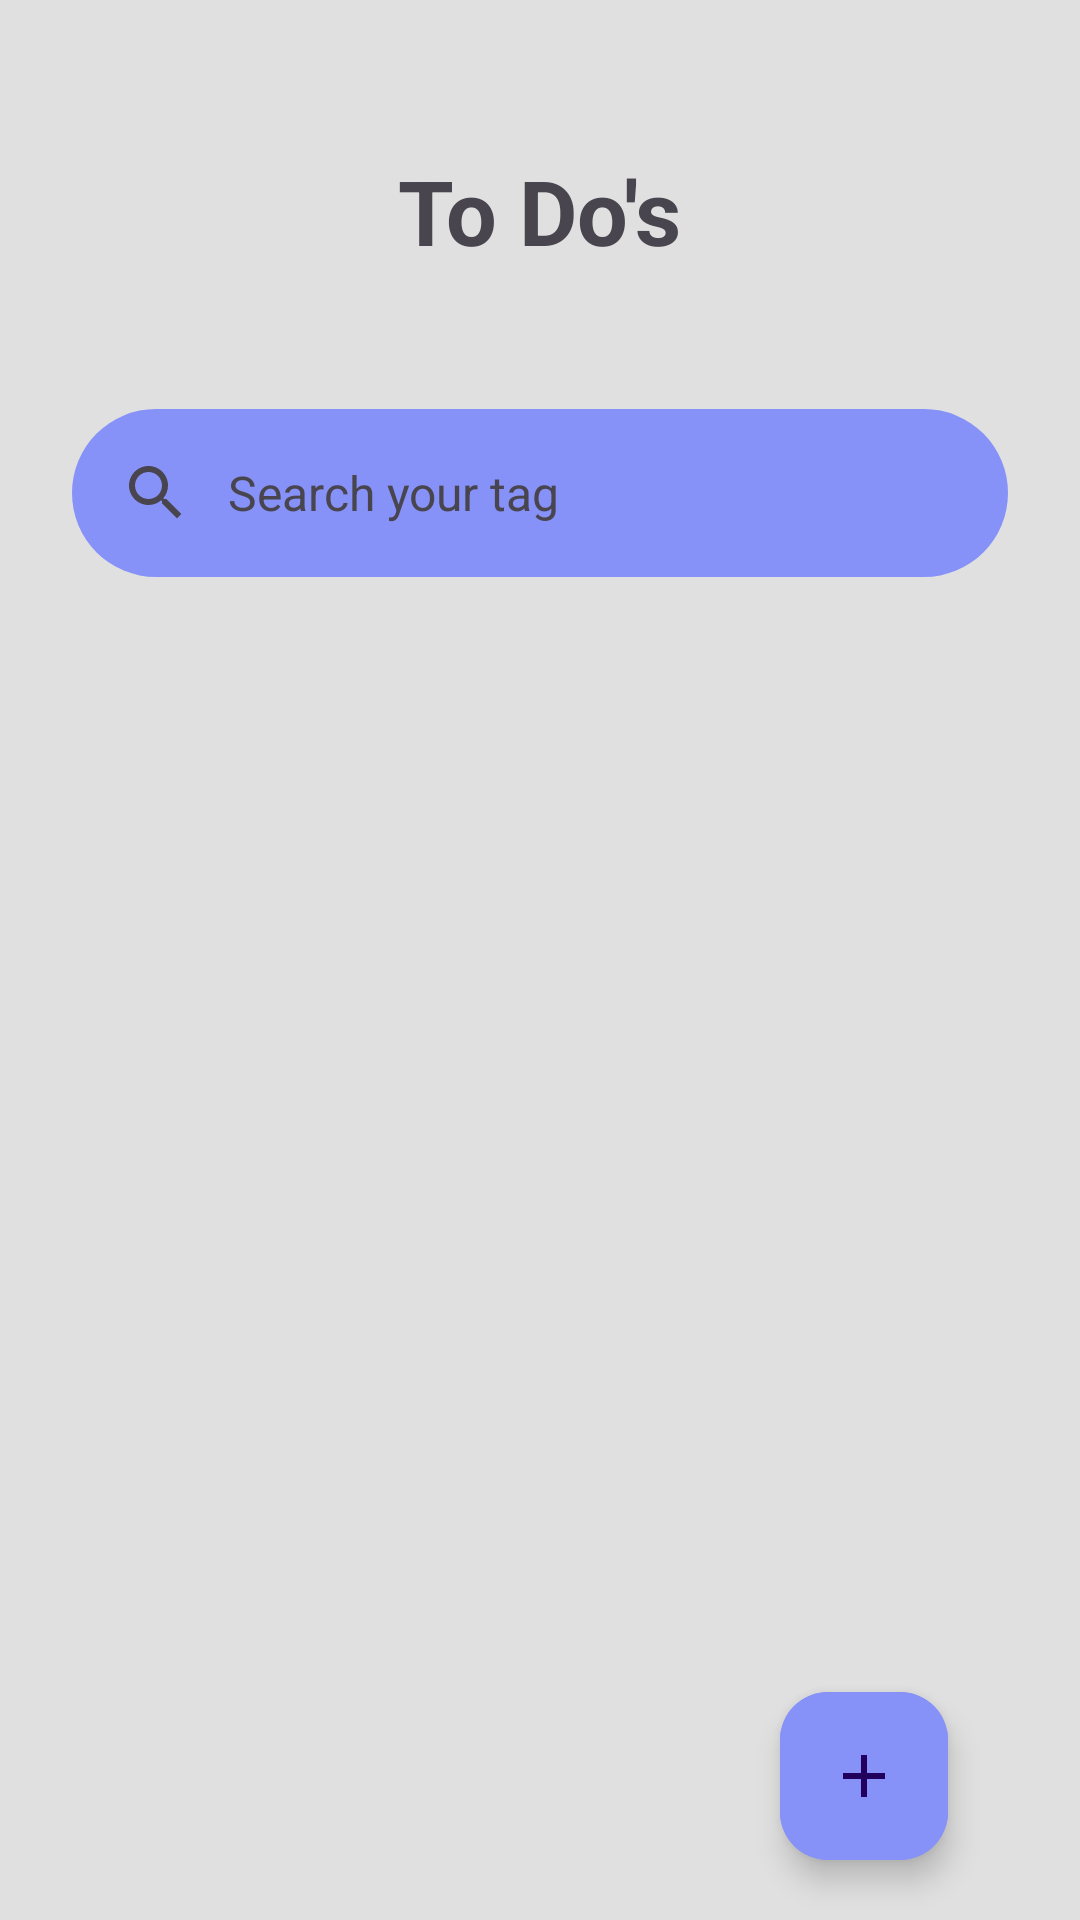

Named icons in this screenshot (1080px×1920px) and their centers, (x=x, y=y):
add cross: (x=864, y=1776)
